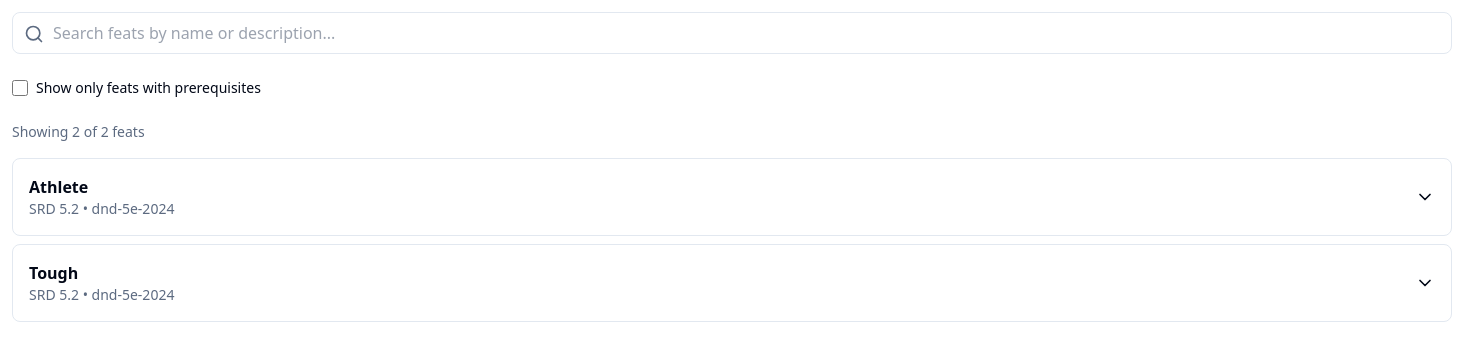
it: FeatBrowser › shows empty state when no feats match
Type "nonexistent" into the field with placeholder "Search feats by name or description..." at (732,33), box [12,12,1452,54]
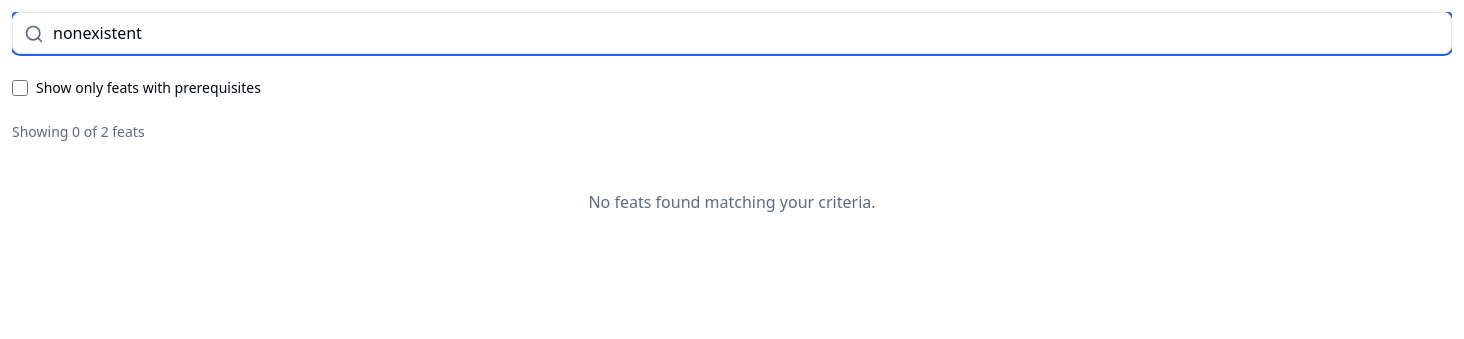
Check: the text "No feats found matching your criteria." is shown, box [588,191,876,213]
